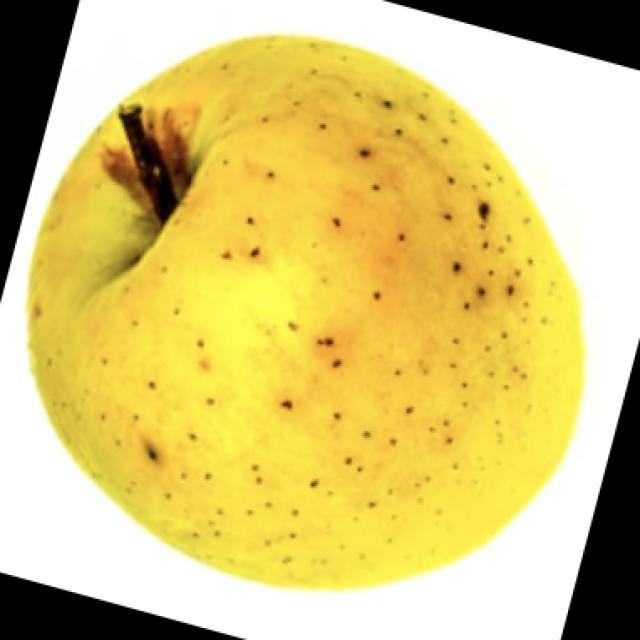Rotten: (33, 55, 577, 583)
